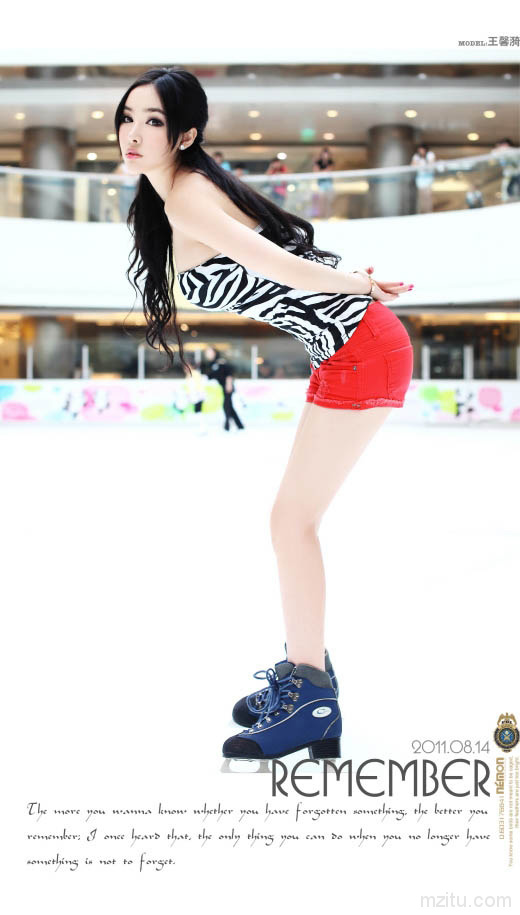women: (113, 66, 415, 762)
